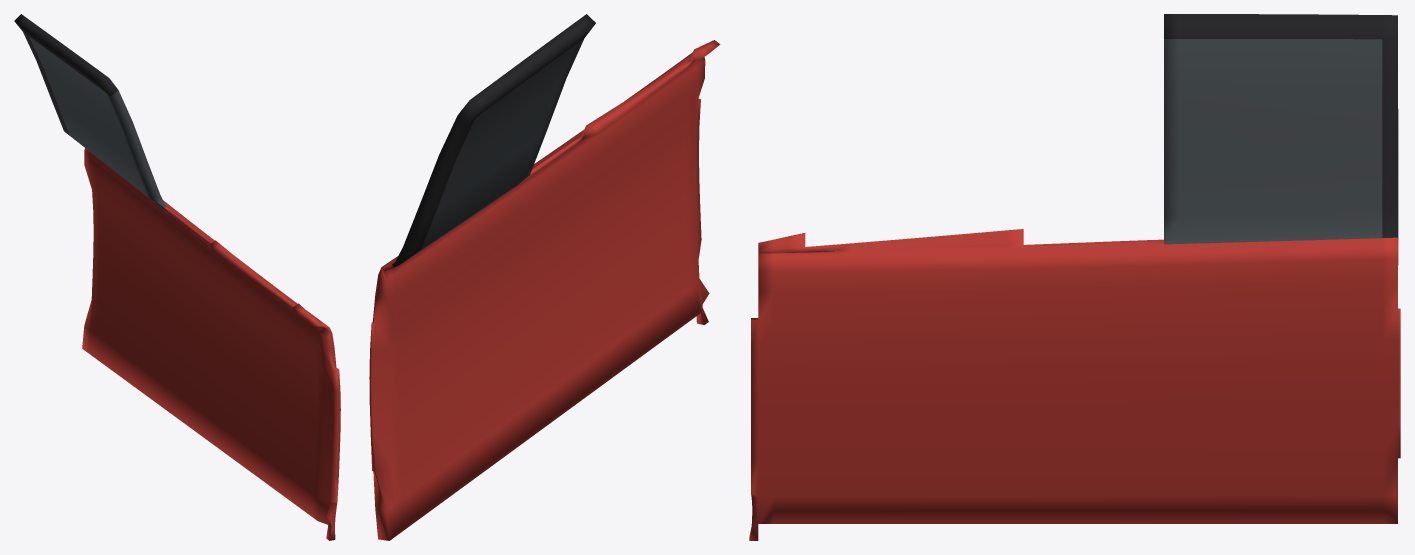
Rendered from Hatch_Door_FL.fbx.
3 renders of one model, left to right at view 1: azimuth 30°, elevation 25°; view 2: azimuth 150°, elevation 25°; view 3: azimuth 270°, elevation 25°, orthographic. The views are drawn at different scales.
Visible parts, largest first — view 1: Hatch_Door_FL_LOD0; view 2: Hatch_Door_FL_LOD0; view 3: Hatch_Door_FL_LOD0.
Boxes of the visible parts, x1,y1,x2,y2 form: Hatch_Door_FL_LOD0: [14, 14, 340, 540]; Hatch_Door_FL_LOD0: [369, 14, 720, 540]; Hatch_Door_FL_LOD0: [749, 14, 1400, 540].
Size of what is drawn, in the model's own units: 0.2839 by 1.19 by 1.46.
